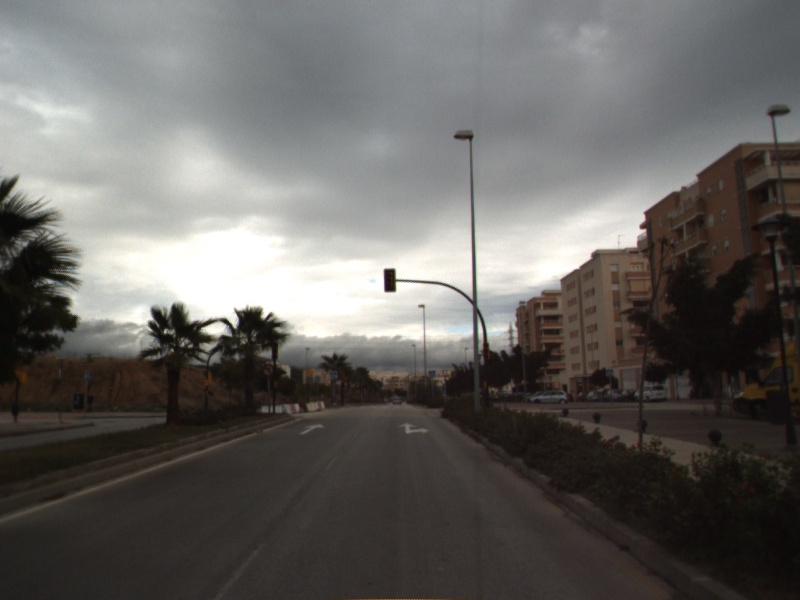STRAIGHT: (298, 421, 326, 437)
STRAIGHT_RIGHT: (396, 421, 431, 435)
